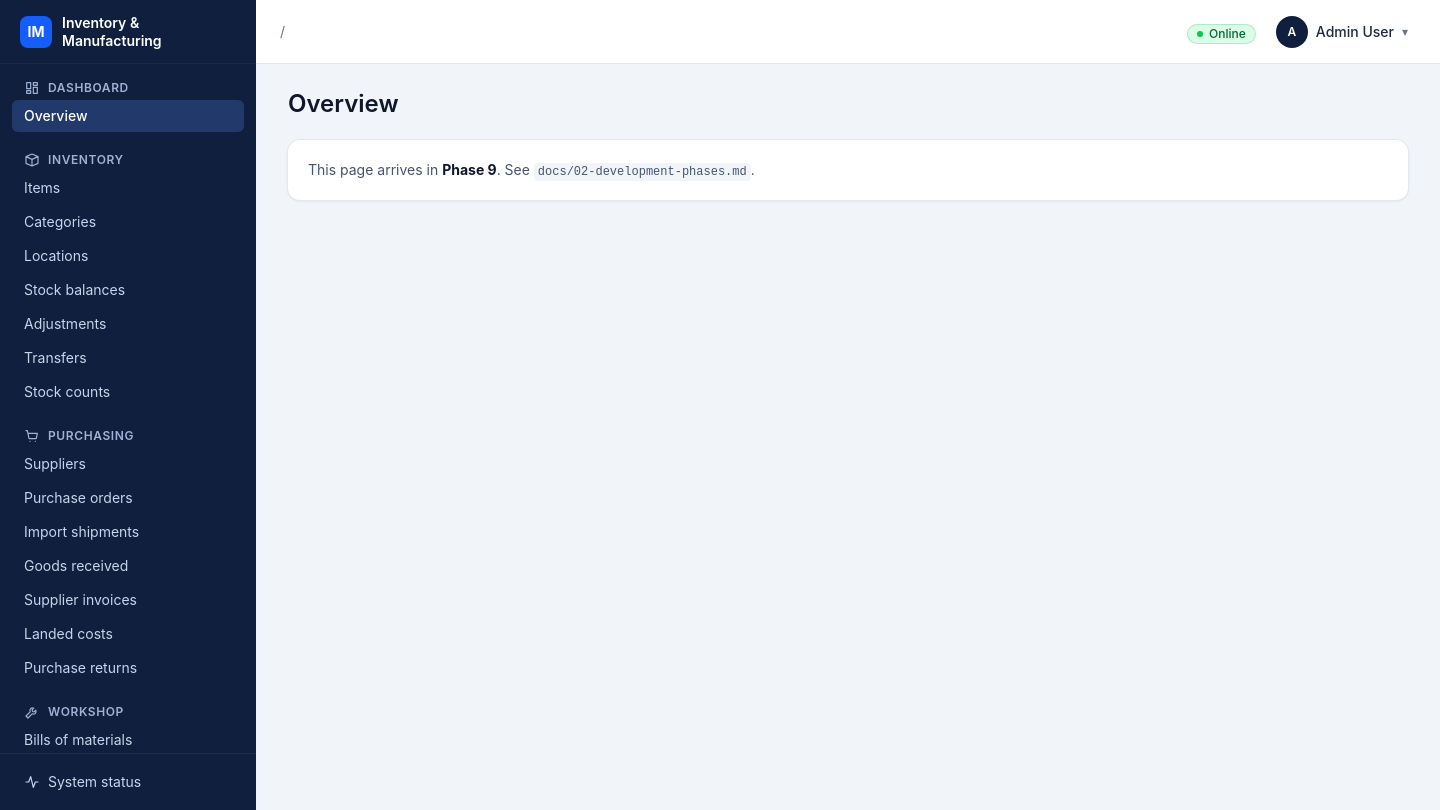
Scenario: frontend authentication › restores a refresh-cookie session and logs out through the backend
Click the button with aria-label "Profile menu for Admin User" at [1342, 32], box [1268, 10, 1416, 54]
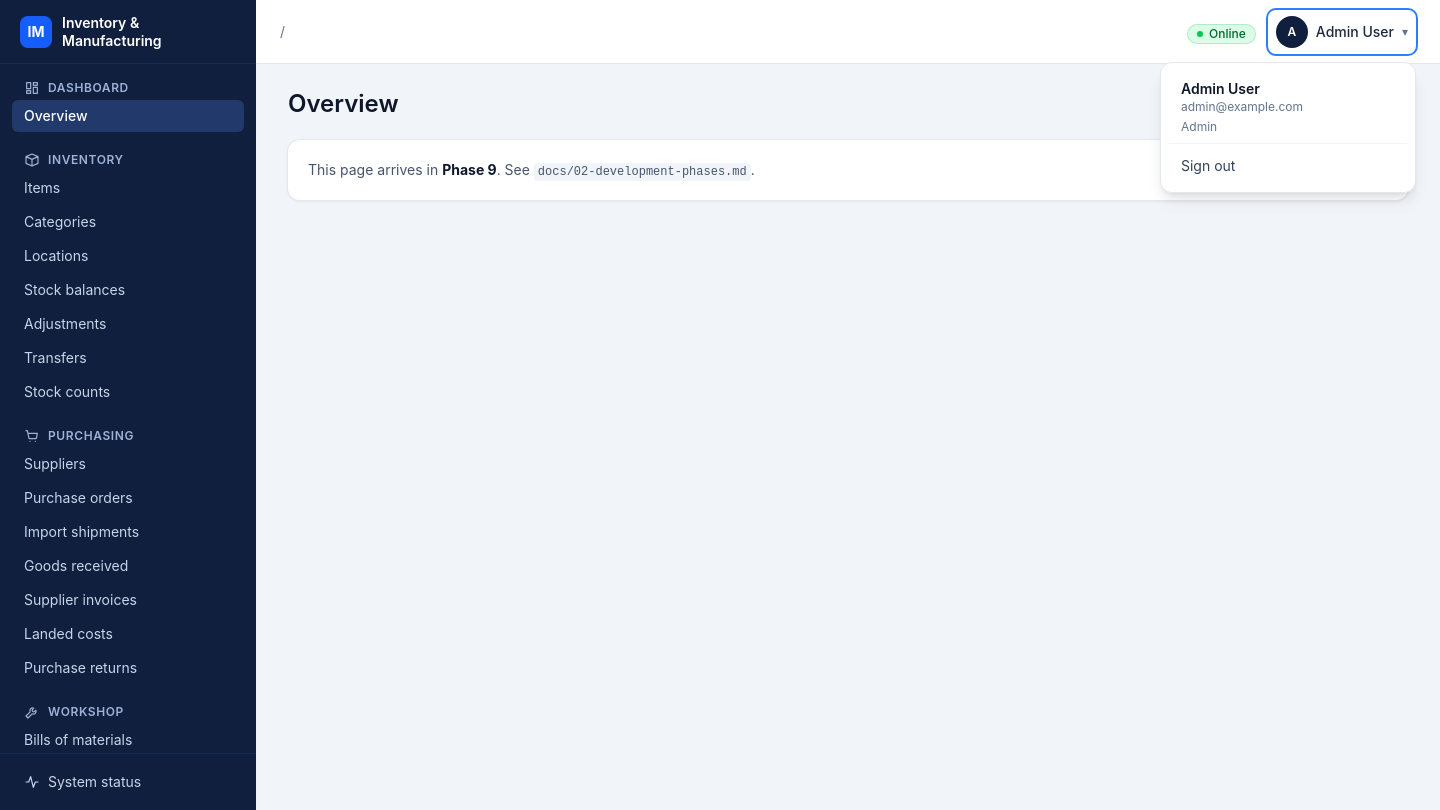
Click the menu item "Sign out" at [1288, 166], box [1169, 148, 1407, 184]
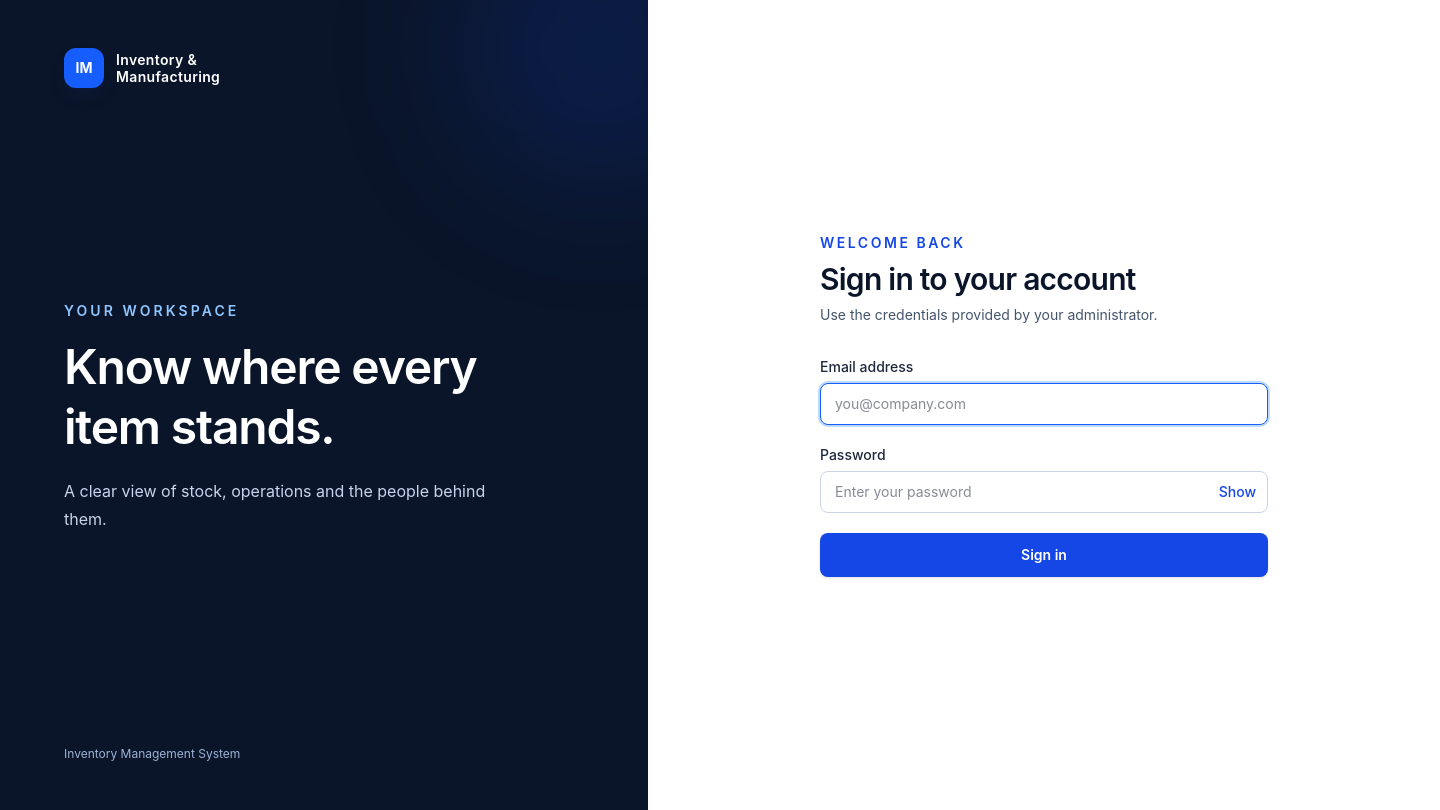
expect the heading "Sign in to your account" is shown: met, box [820, 261, 1136, 297]
